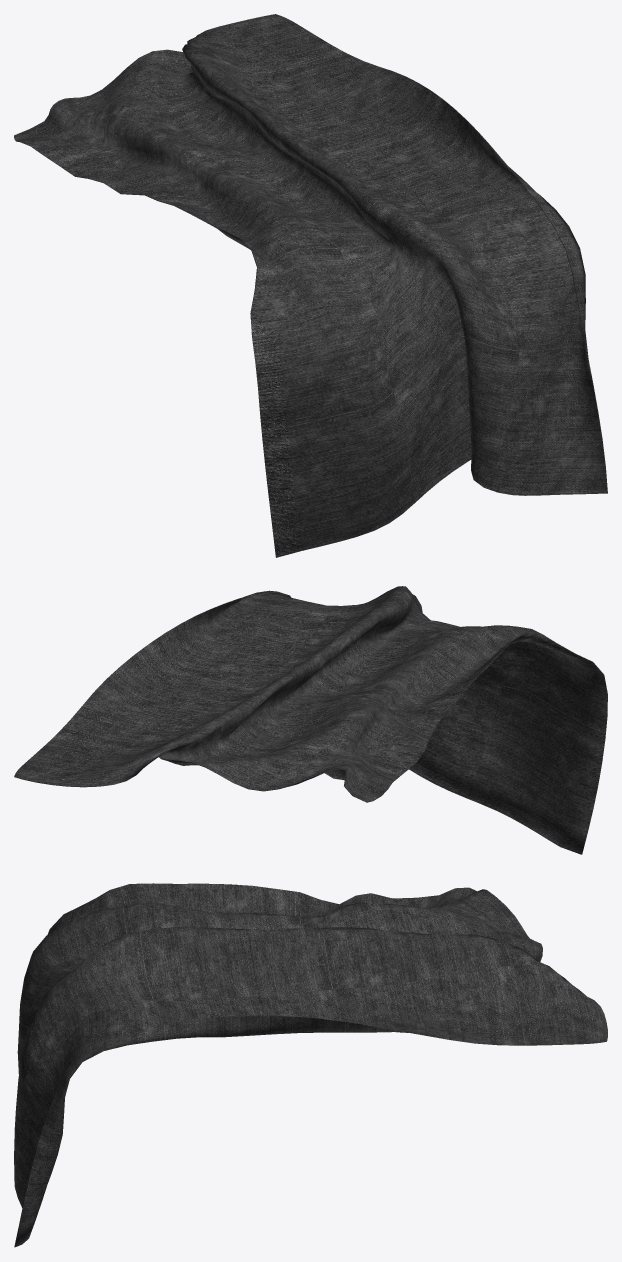
File: Textile_blanket_01.glb
The picture shows the model from 3 angles, top to bottom: view 1: azimuth 30°, elevation 25°; view 2: azimuth 150°, elevation 25°; view 3: azimuth 270°, elevation 25°; orthographic projection. The views are drawn at different scales.
Parts seen in each view (by area): view 1: blanket_01; view 2: blanket_01; view 3: blanket_01.
Part boxes in pixels (x1,y1,x2,y2): blanket_01: (14,14,607,557); blanket_01: (14,586,607,854); blanket_01: (14,883,607,1247).
Size of the model in its own units: 0.5344 by 0.4177 by 0.8856.
1 material, 1 textured.
